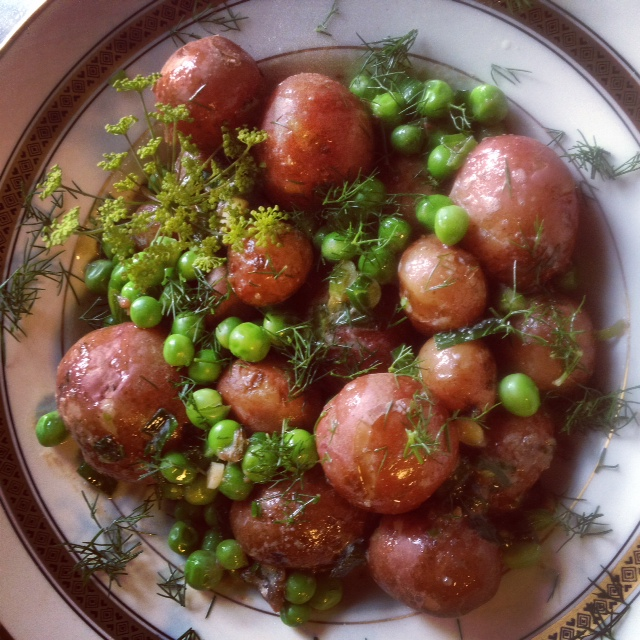boiled peas: (96, 246, 264, 369), (162, 353, 297, 499), (355, 63, 472, 179), (292, 211, 467, 260), (166, 520, 241, 587), (272, 577, 350, 622), (500, 373, 543, 414), (25, 404, 68, 440)
